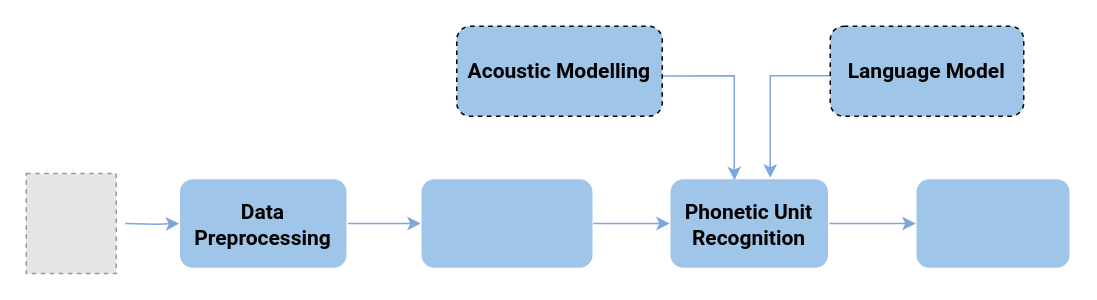
The diagram is 1097 pixels wide and 300 high, and some of its shapes have lost their labels. Grey dashed boxes stand in for pictures. The shapes that lost their labels are listed below. From the top down, each one's box as (x1, y1, x2, y2) in pixels, then its label:
(419, 177, 593, 268): Feature Extration
(914, 177, 1070, 268): Textual Output
